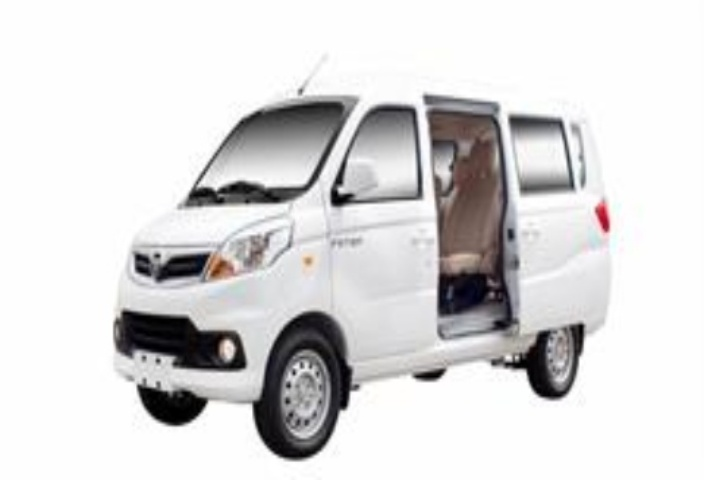van: (131, 79, 618, 444)
